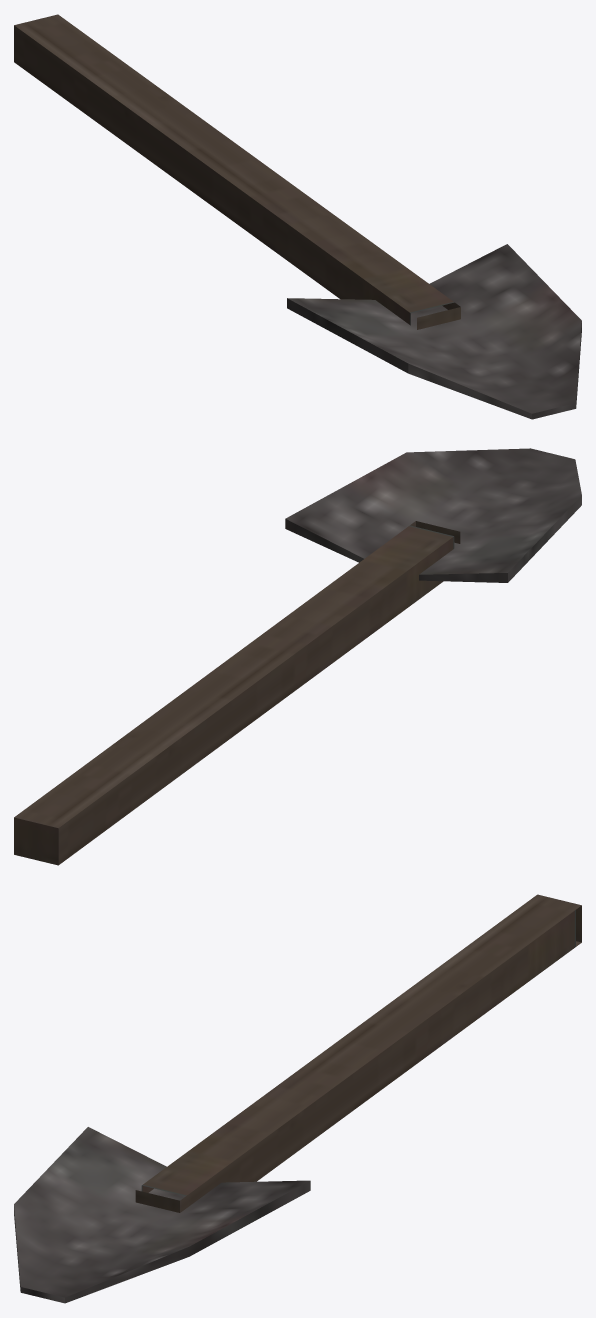
File: love-death-shovel-art.glb
3 renders of one model, top to bottom at view 1: azimuth 30°, elevation 25°; view 2: azimuth 150°, elevation 25°; view 3: azimuth 330°, elevation 25°, orthographic.
Visible parts, largest first — view 1: LoveDeath_Shovel_Art; view 2: LoveDeath_Shovel_Art; view 3: LoveDeath_Shovel_Art.
Boxes of the visible parts, x1,y1,x2,y2 form: LoveDeath_Shovel_Art: (14, 14, 581, 419); LoveDeath_Shovel_Art: (14, 448, 581, 865); LoveDeath_Shovel_Art: (14, 894, 581, 1303).
Size of the model in its own units: 0.6743 by 0.1426 by 2.73.
1 material, 1 textured.
